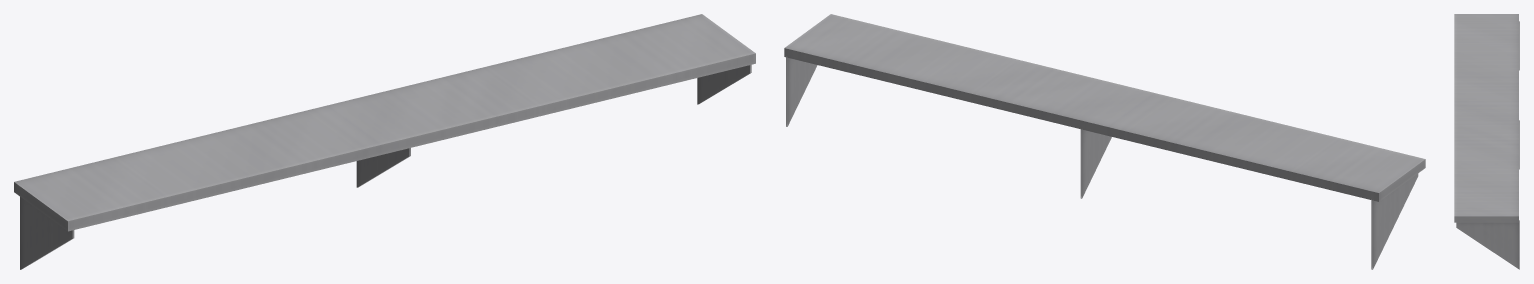
The model's file is jsf_AdditionalTable_s01.fbx.
3 views of the same model, side by side, from view 1: azimuth 30°, elevation 25°; view 2: azimuth 150°, elevation 25°; view 3: azimuth 270°, elevation 25° (orthographic). The views are drawn at different scales.
Visible parts, largest first — view 1: jsf_AdditionalTable_s01; view 2: jsf_AdditionalTable_s01; view 3: jsf_AdditionalTable_s01.
Part boxes in pixels (<box>): jsf_AdditionalTable_s01: <box>14,14,755,269</box>; jsf_AdditionalTable_s01: <box>784,14,1425,269</box>; jsf_AdditionalTable_s01: <box>1454,14,1519,269</box>.
Size of the model in its own units: 148 by 18.46 by 20.2.
